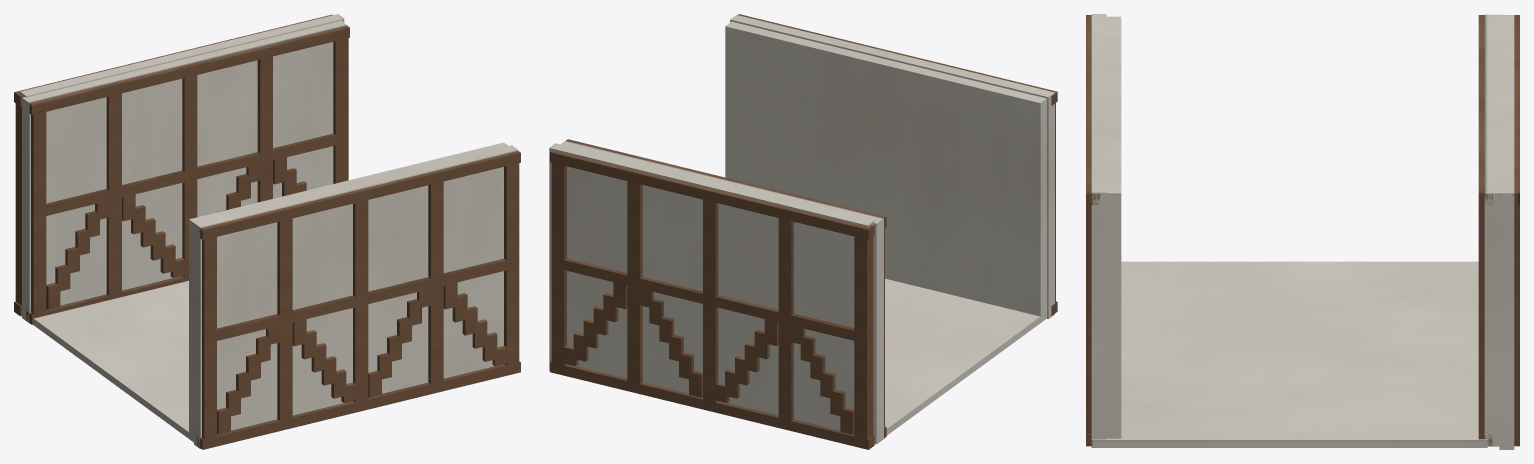
Rendered from med_wall_halftimber.glb.
3 views of the same model, side by side, from view 1: azimuth 30°, elevation 25°; view 2: azimuth 150°, elevation 25°; view 3: azimuth 270°, elevation 25° (orthographic). The views are drawn at different scales.
Parts seen in each view (by area): view 1: med_wall_halftimber; view 2: med_wall_halftimber; view 3: med_wall_halftimber.
Part boxes in pixels (bbox=[...]): med_wall_halftimber: bbox=[14, 14, 520, 449]; med_wall_halftimber: bbox=[549, 14, 1057, 449]; med_wall_halftimber: bbox=[1086, 14, 1519, 449].
Bounding box in the file's own units: 4.04 × 2.68 × 4.11.
1 material, 1 textured.
